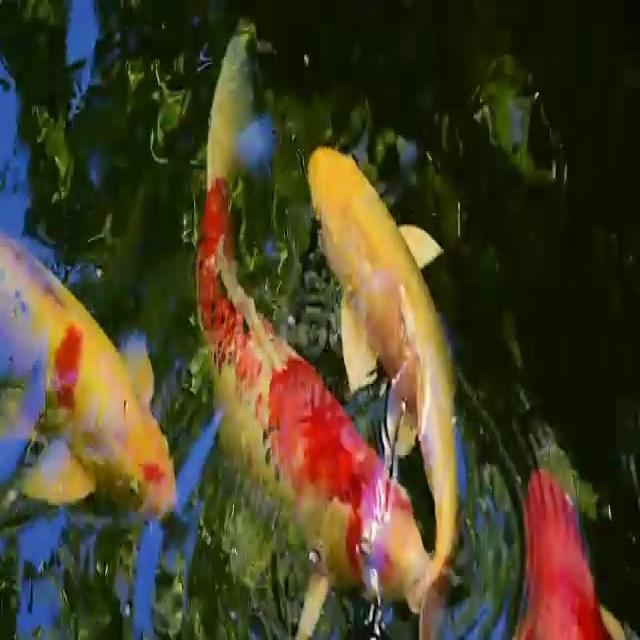fish: (190, 69, 440, 612), (292, 115, 480, 572), (3, 201, 184, 554), (497, 409, 608, 640)
